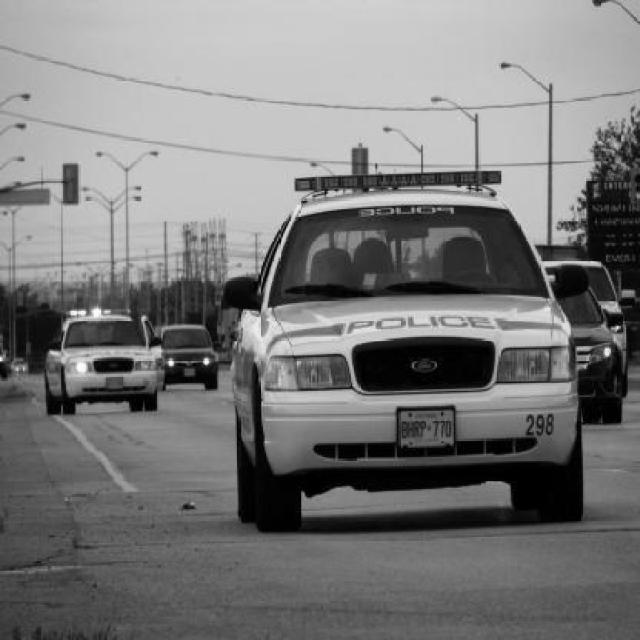car: (205, 200, 586, 554), (543, 257, 640, 432), (32, 308, 171, 429), (168, 323, 222, 385)
license-plate: (394, 406, 460, 445)
